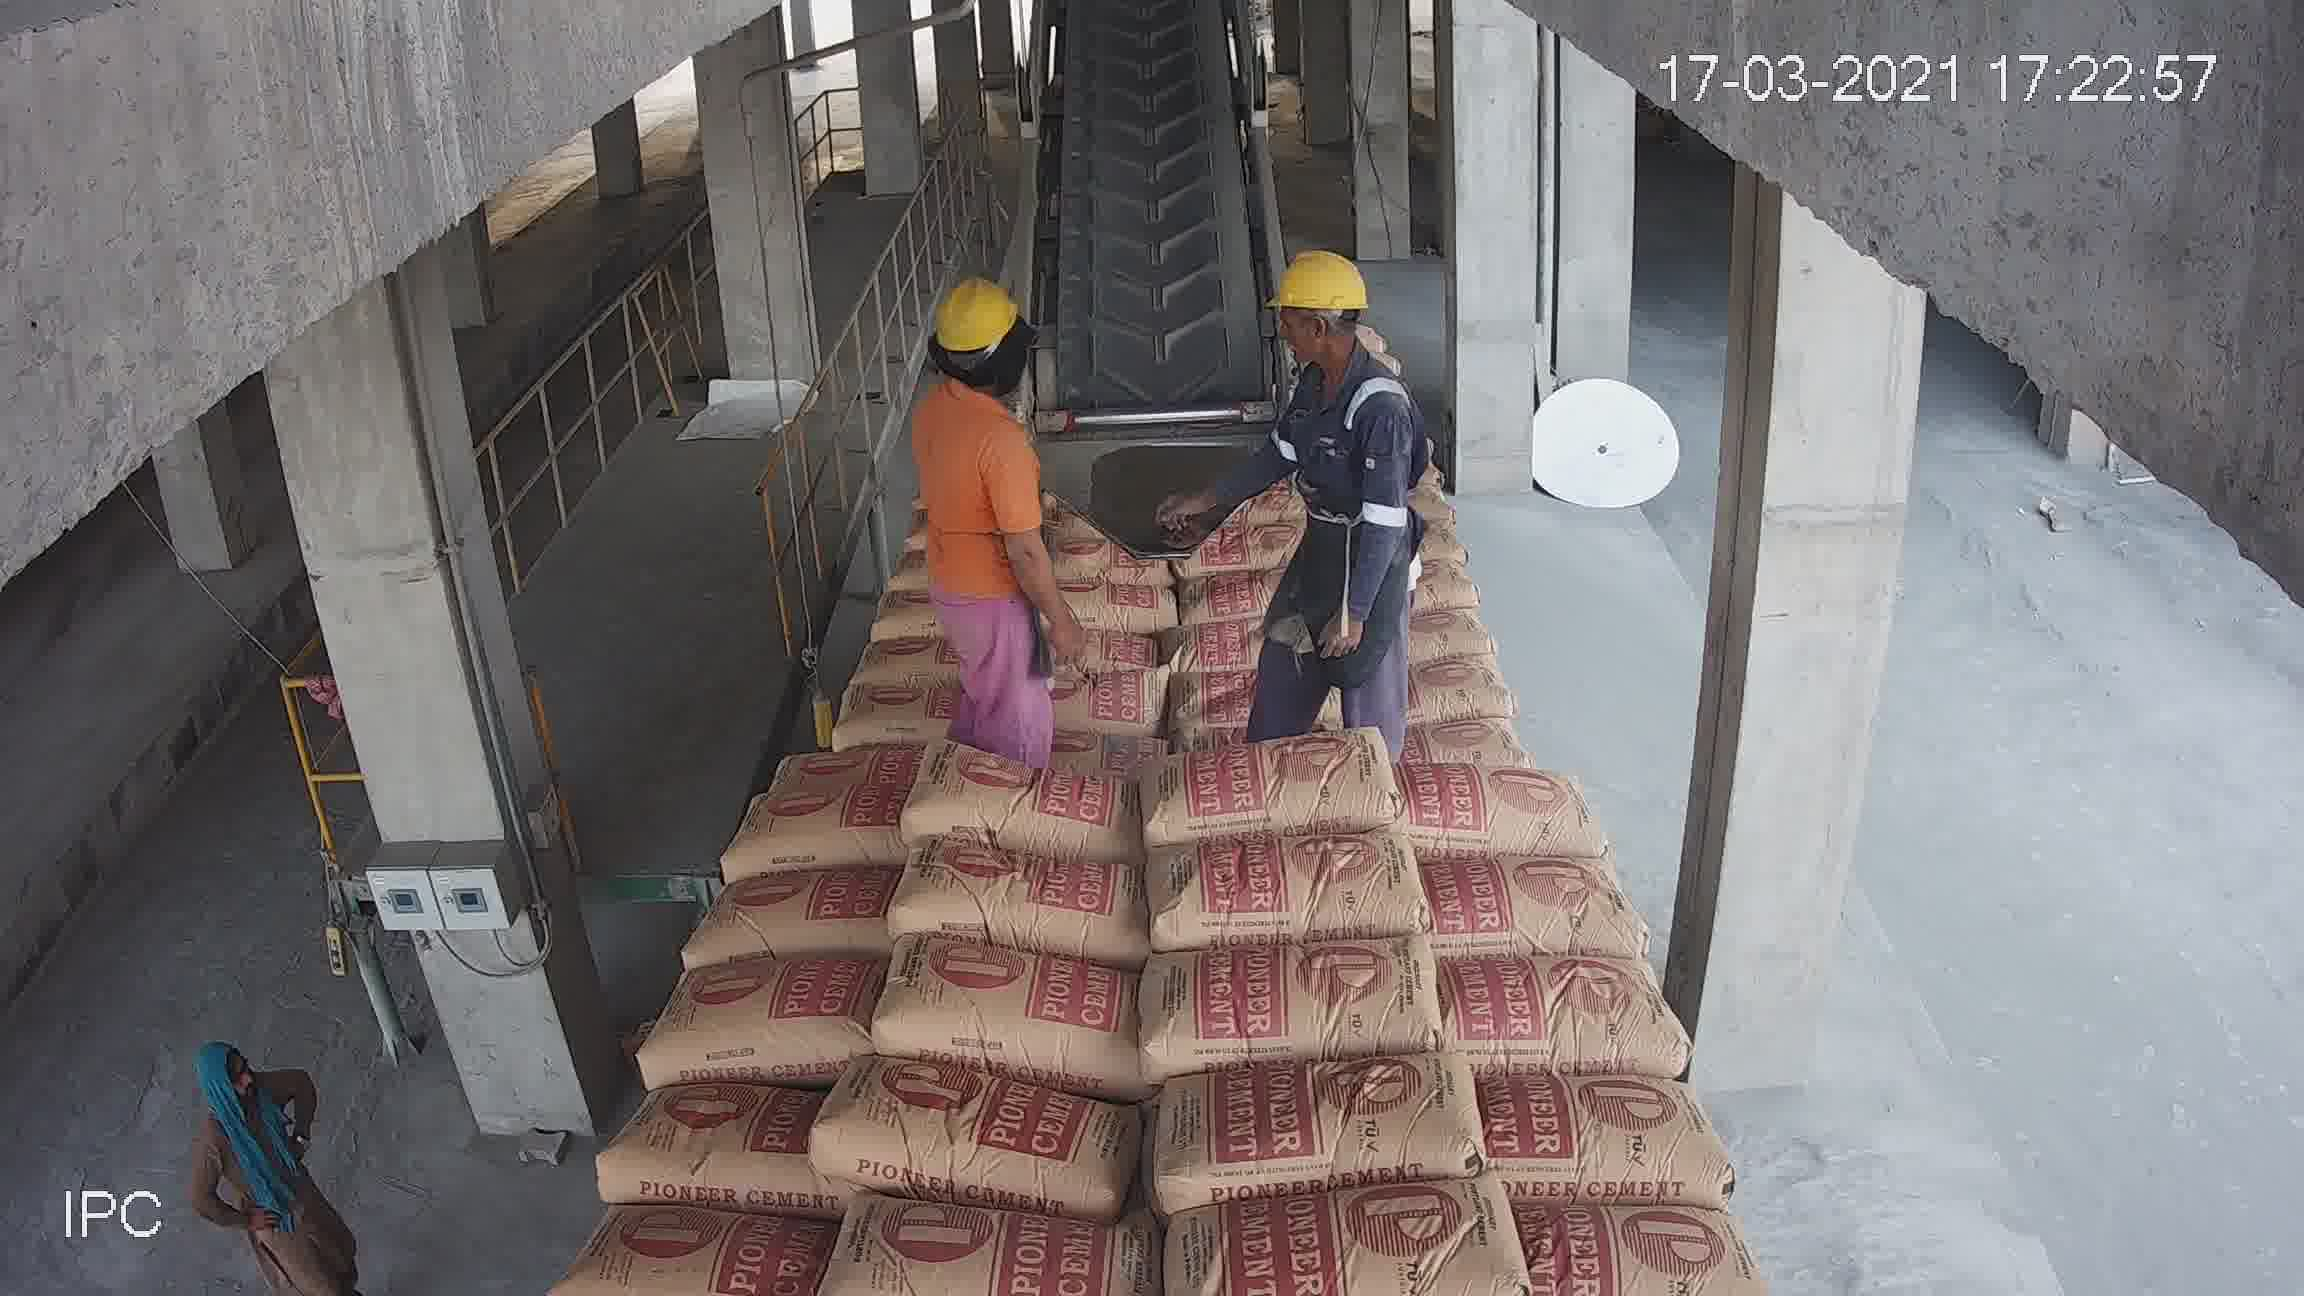bag: (1165, 427, 1372, 535), (1090, 104, 1214, 247)
belt: (1036, 9, 1258, 388), (1150, 1044, 1514, 1180), (1146, 1173, 1513, 1296), (837, 1198, 1144, 1296), (1141, 737, 1396, 855), (650, 951, 897, 1070), (584, 1082, 831, 1199), (1155, 836, 1421, 943), (810, 1100, 1139, 1185), (685, 851, 930, 964), (1158, 942, 1443, 1038), (1432, 961, 1679, 1067), (1120, 658, 1380, 758), (878, 962, 1147, 1057), (1480, 1082, 1695, 1193), (915, 671, 1146, 766), (571, 1192, 821, 1279), (722, 772, 921, 880), (883, 761, 1152, 840), (861, 858, 1161, 923), (1173, 581, 1370, 679), (1533, 1211, 1742, 1296), (1435, 859, 1616, 954), (1385, 695, 1593, 769), (940, 623, 1176, 688), (777, 628, 953, 711), (1397, 777, 1590, 850), (1374, 609, 1537, 695), (763, 699, 919, 783), (1063, 533, 1195, 592), (1369, 555, 1503, 612), (1055, 491, 1171, 548), (1348, 527, 1472, 579), (1367, 486, 1443, 543), (1347, 453, 1438, 495)
